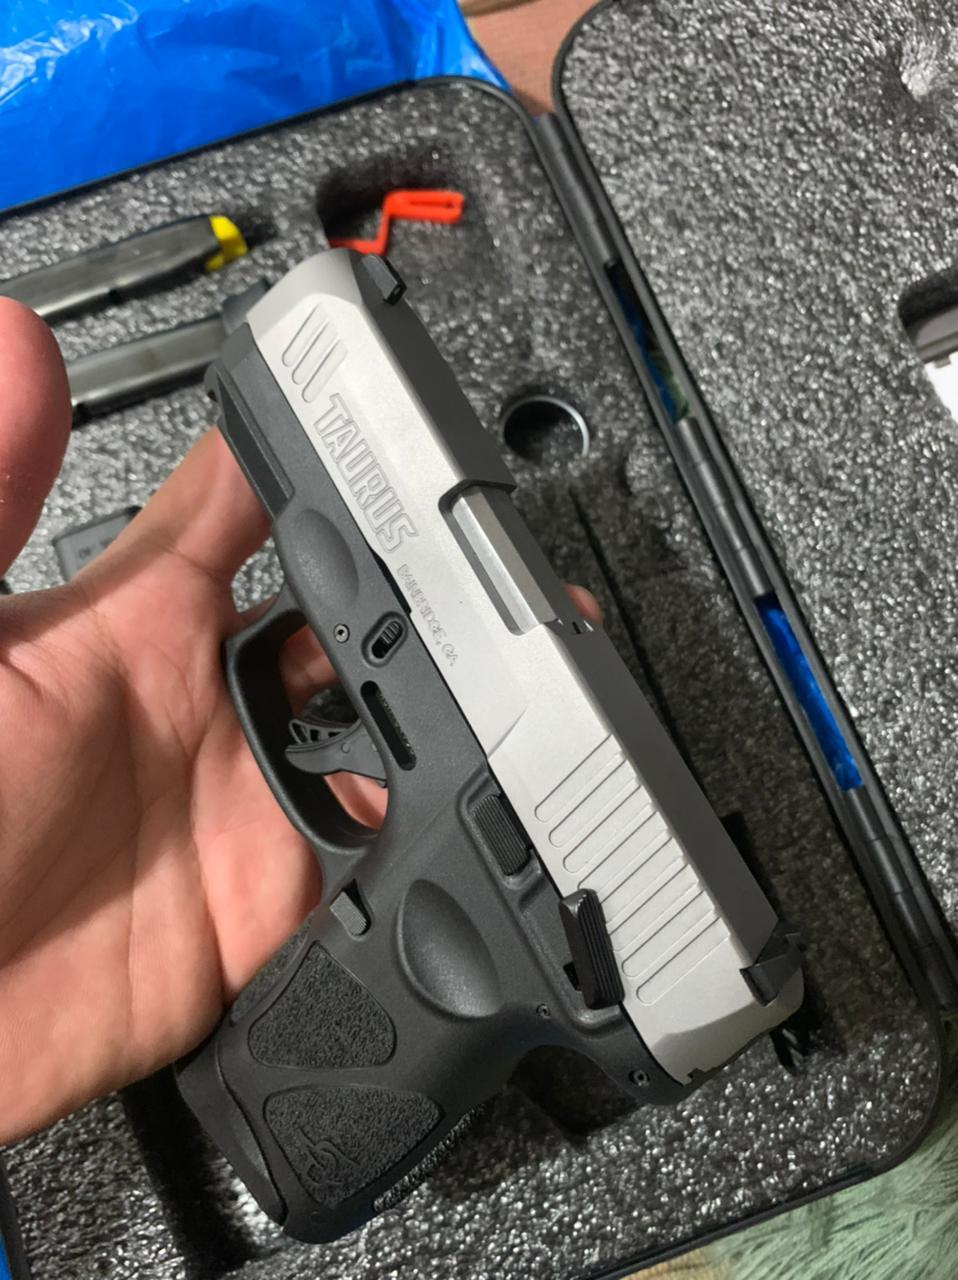weapon: (179, 248, 809, 1280)
